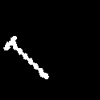half_double_crochet: (4, 36, 48, 78)
